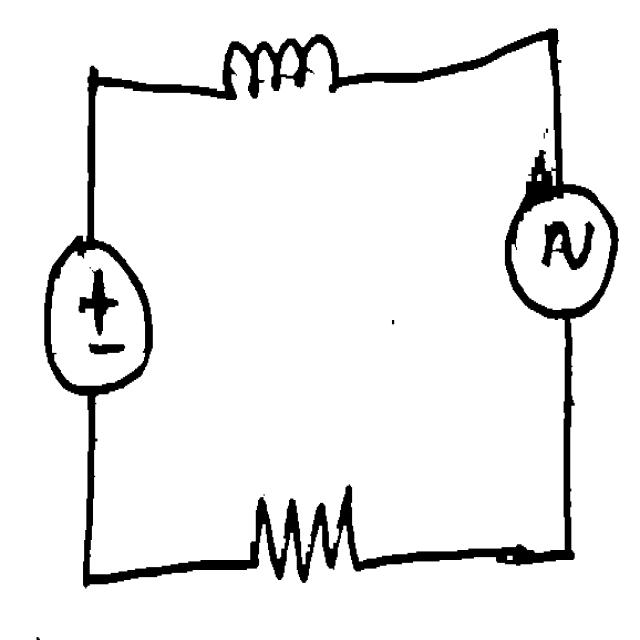ac: (490, 166, 630, 330)
dc: (30, 220, 163, 403)
inductor: (208, 26, 361, 116)
resistor: (241, 470, 379, 584)
